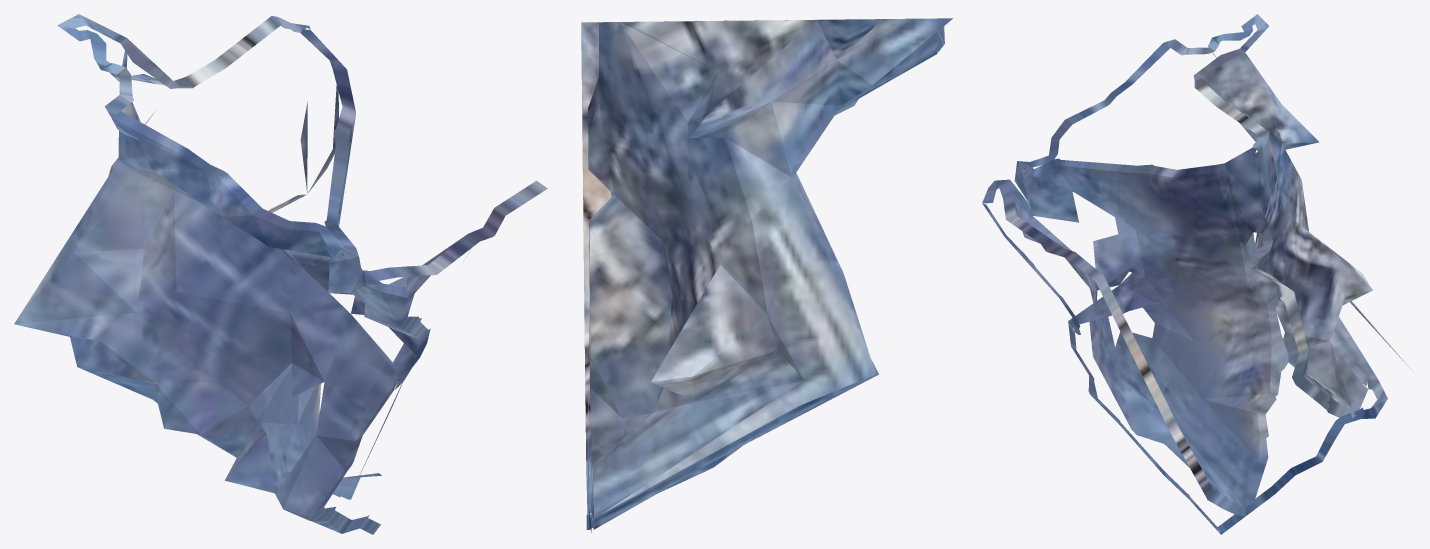
3 views of the same model, side by side, from view 1: azimuth 30°, elevation 25°; view 2: azimuth 150°, elevation 25°; view 3: azimuth 270°, elevation 25° (orthographic). The views are drawn at different scales.
Size of the model in its own units: 15.19 by 20.24 by 19.13.
Materials: 1 (1 with a texture image).
